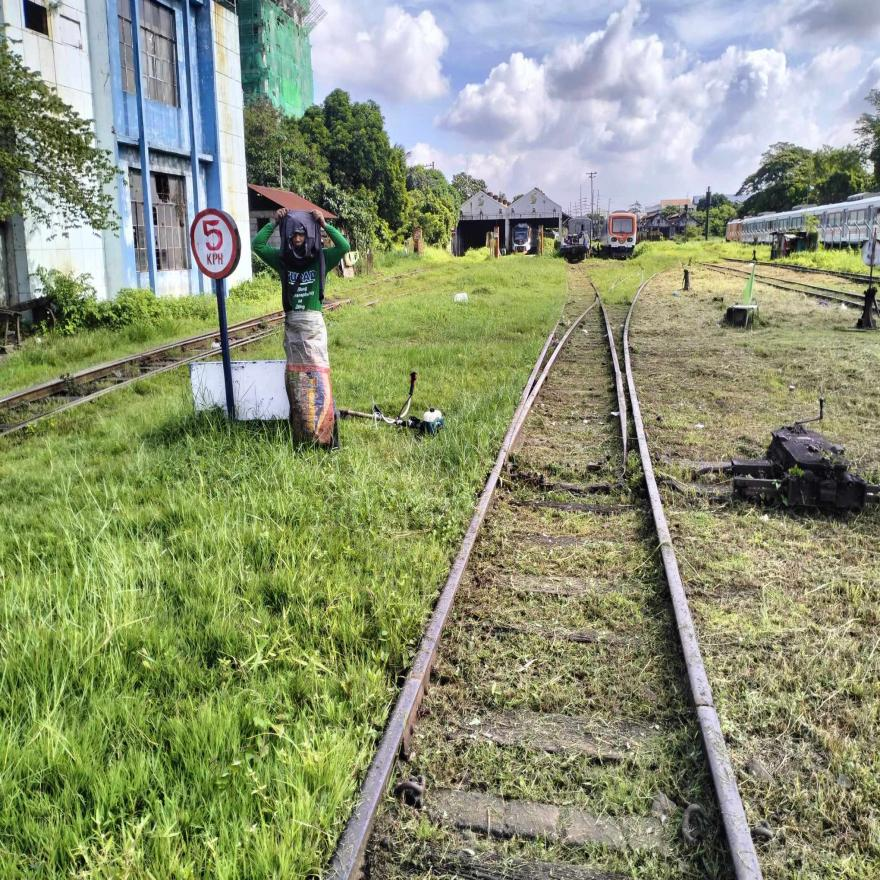railway-gap: (674, 670, 734, 746)
